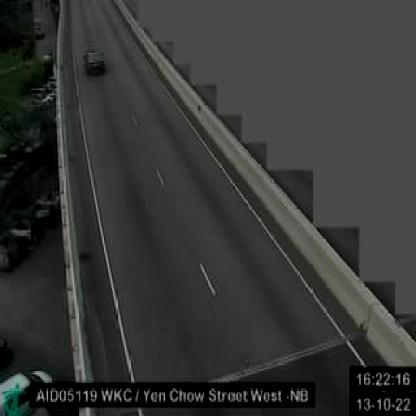Car: (84, 46, 106, 76)
